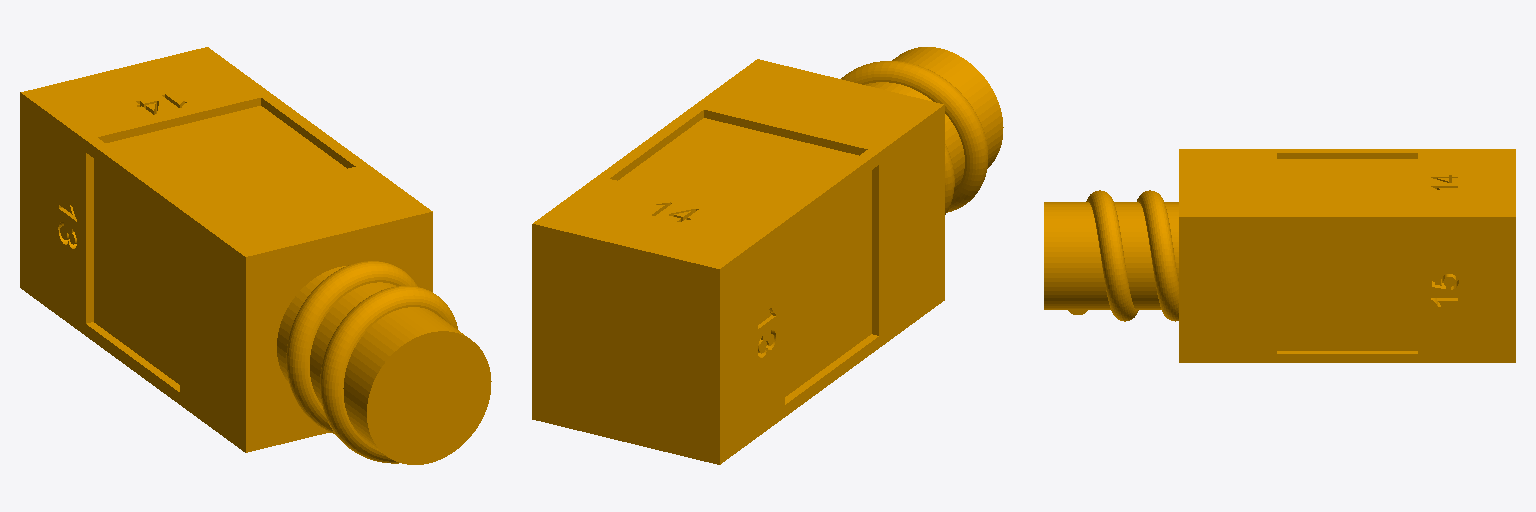
robot.urdf — square_table_leg:
<?xml version="1.0"?>
<robot name="square_table_leg">
    <link name="square_table_leg">
        <visual>
            <geometry>
                <mesh filename="../mesh/square_table_leg.obj" scale="1 1 1"/>
            </geometry>
        </visual>
        <collision>
            <geometry>
                <mesh filename="../mesh/square_table_leg.obj" scale="1 1 1"/>
            </geometry>
            <sdf resolution="512"/>
        </collision>
        <!-- <inertial>
            <mass value="1."/>
            <inertia ixx="0.0001" ixy="0.0" ixz="0.0" iyy="0.0001" iyz="0.0" izz="0.0001"/>
        </inertial> -->
    </link>
</robot>

--- Render facts (derived) ---
3 views of the same robot in one strip: view 1: azimuth 30°, elevation 25°; view 2: azimuth 150°, elevation 25°; view 3: azimuth 270°, elevation 25° (orthographic).
Robot: square_table_leg — 1 links, 0 joints (none); root link square_table_leg; default pose: all joints at 0.
Links seen in each view (by area): view 1: square_table_leg; view 2: square_table_leg; view 3: square_table_leg.
Link boxes in pixels (box(x1,y1,x2,y2)): square_table_leg: box(20, 47, 491, 464); square_table_leg: box(532, 47, 1003, 464); square_table_leg: box(1044, 149, 1515, 362).
Bounding box of the posed robot: 0.03 × 0.0875 × 0.03 m (x, y, z).
1 mesh visuals loaded from 1 distinct referenced files (1 OBJ).